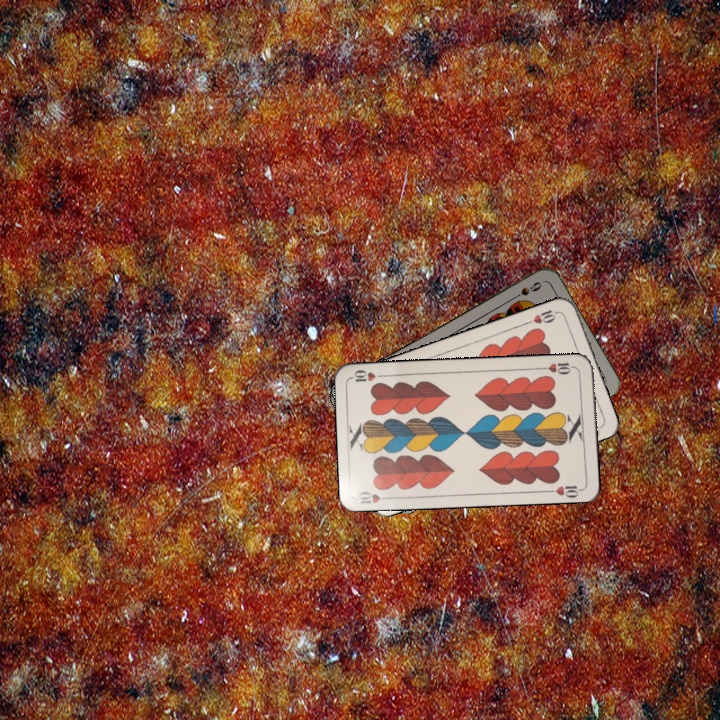H10: (523, 305, 562, 327), (355, 487, 395, 507), (537, 358, 578, 377)
S9: (507, 277, 544, 303)
